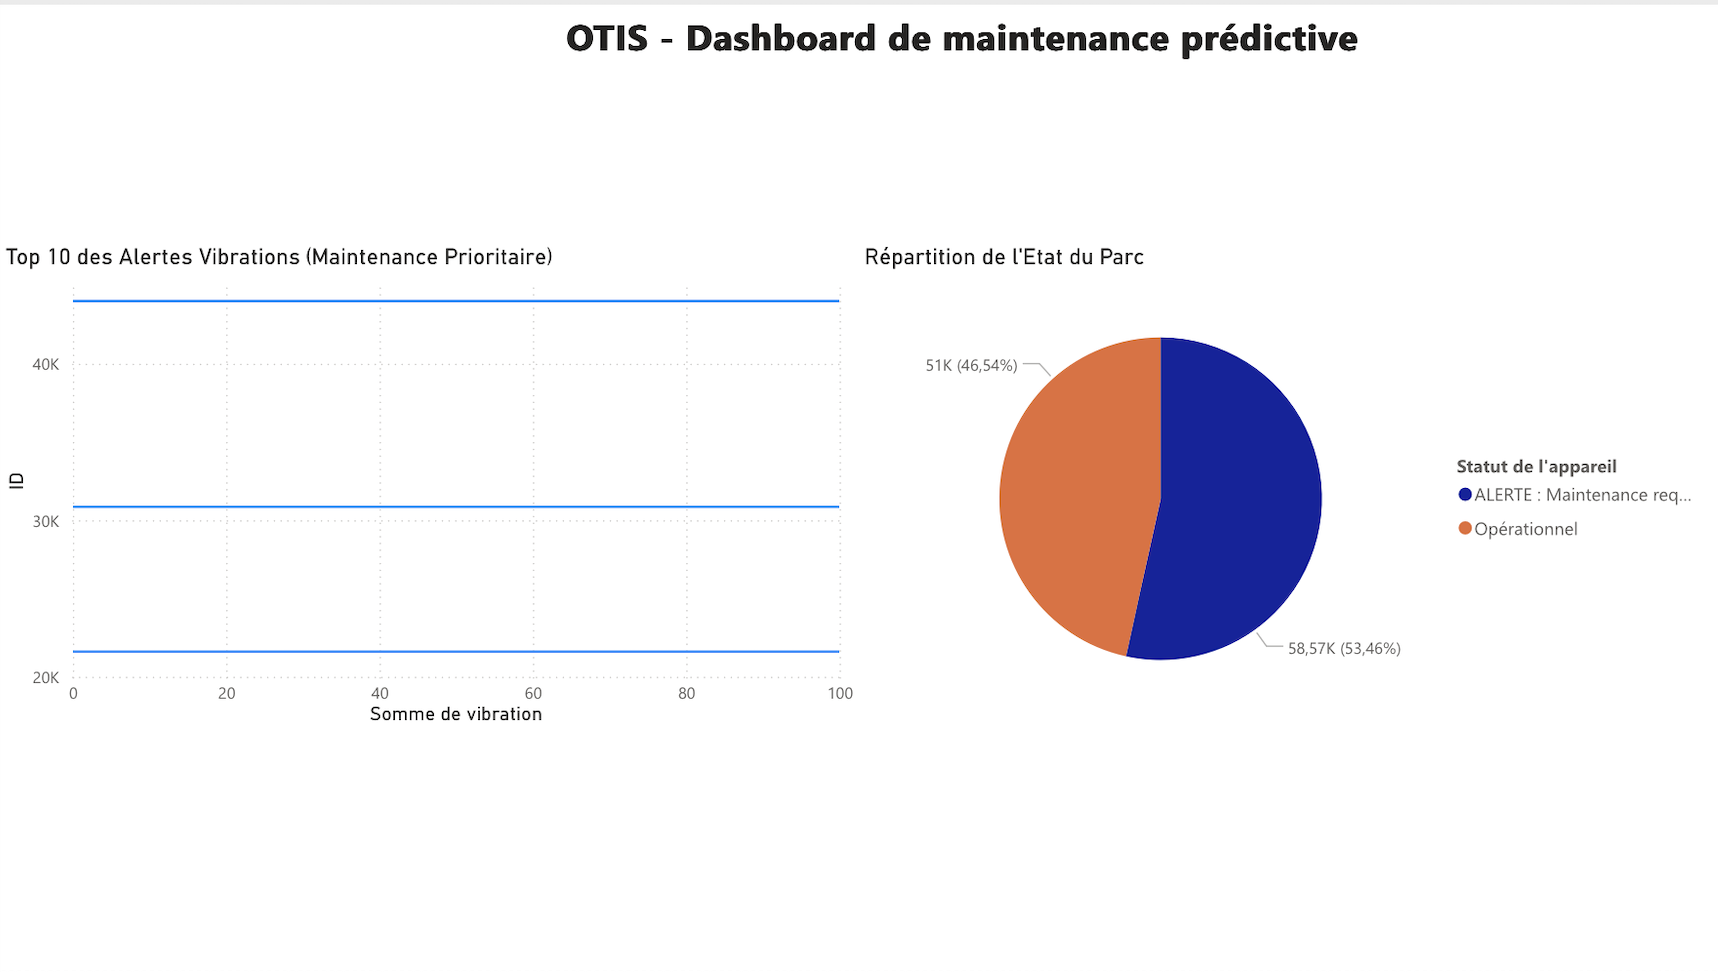

Layout of this report page (visuals, bound fields, positions):
{"tool":"powerbi","page":{"name":"Page 1","canvas":[1280,720],"ordinal":0},"visuals":[{"type":"pieChart","title":"Répartition de l''État du Parc","fields":{"Y":["CountNonNull(predictive-maintenance-dataset 1.Statut de l'appareil)"],"Category":["predictive-maintenance-dataset 1.Statut de l'appareil"]},"box":[639.3,180.2,640.7,360.3],"z":1001},{"type":"clusteredBarChart","title":"Top 10 des Alertes Vibrations (Maintenance Prioritaire)","fields":{"Category":["predictive-maintenance-dataset 1.ID"],"Y":["Sum(predictive-maintenance-dataset 1.vibration)"]},"box":[0,180.2,640.7,360.3],"z":1002},{"type":"textbox","box":[417,0,601.5,56.7],"z":1003}]}

Visuals, with their boxes in screenshot pixels (x1, y1, x2, y2), scaled from the page's 1280x720 canvas onto the 1718x972 screenshot:
"Répartition de l''État du Parc" pieChart: l=858, t=243, r=1717, b=730
"Top 10 des Alertes Vibrations (Maintenance Prioritaire)" clusteredBarChart: l=0, t=243, r=860, b=730
textbox: l=560, t=0, r=1367, b=77
